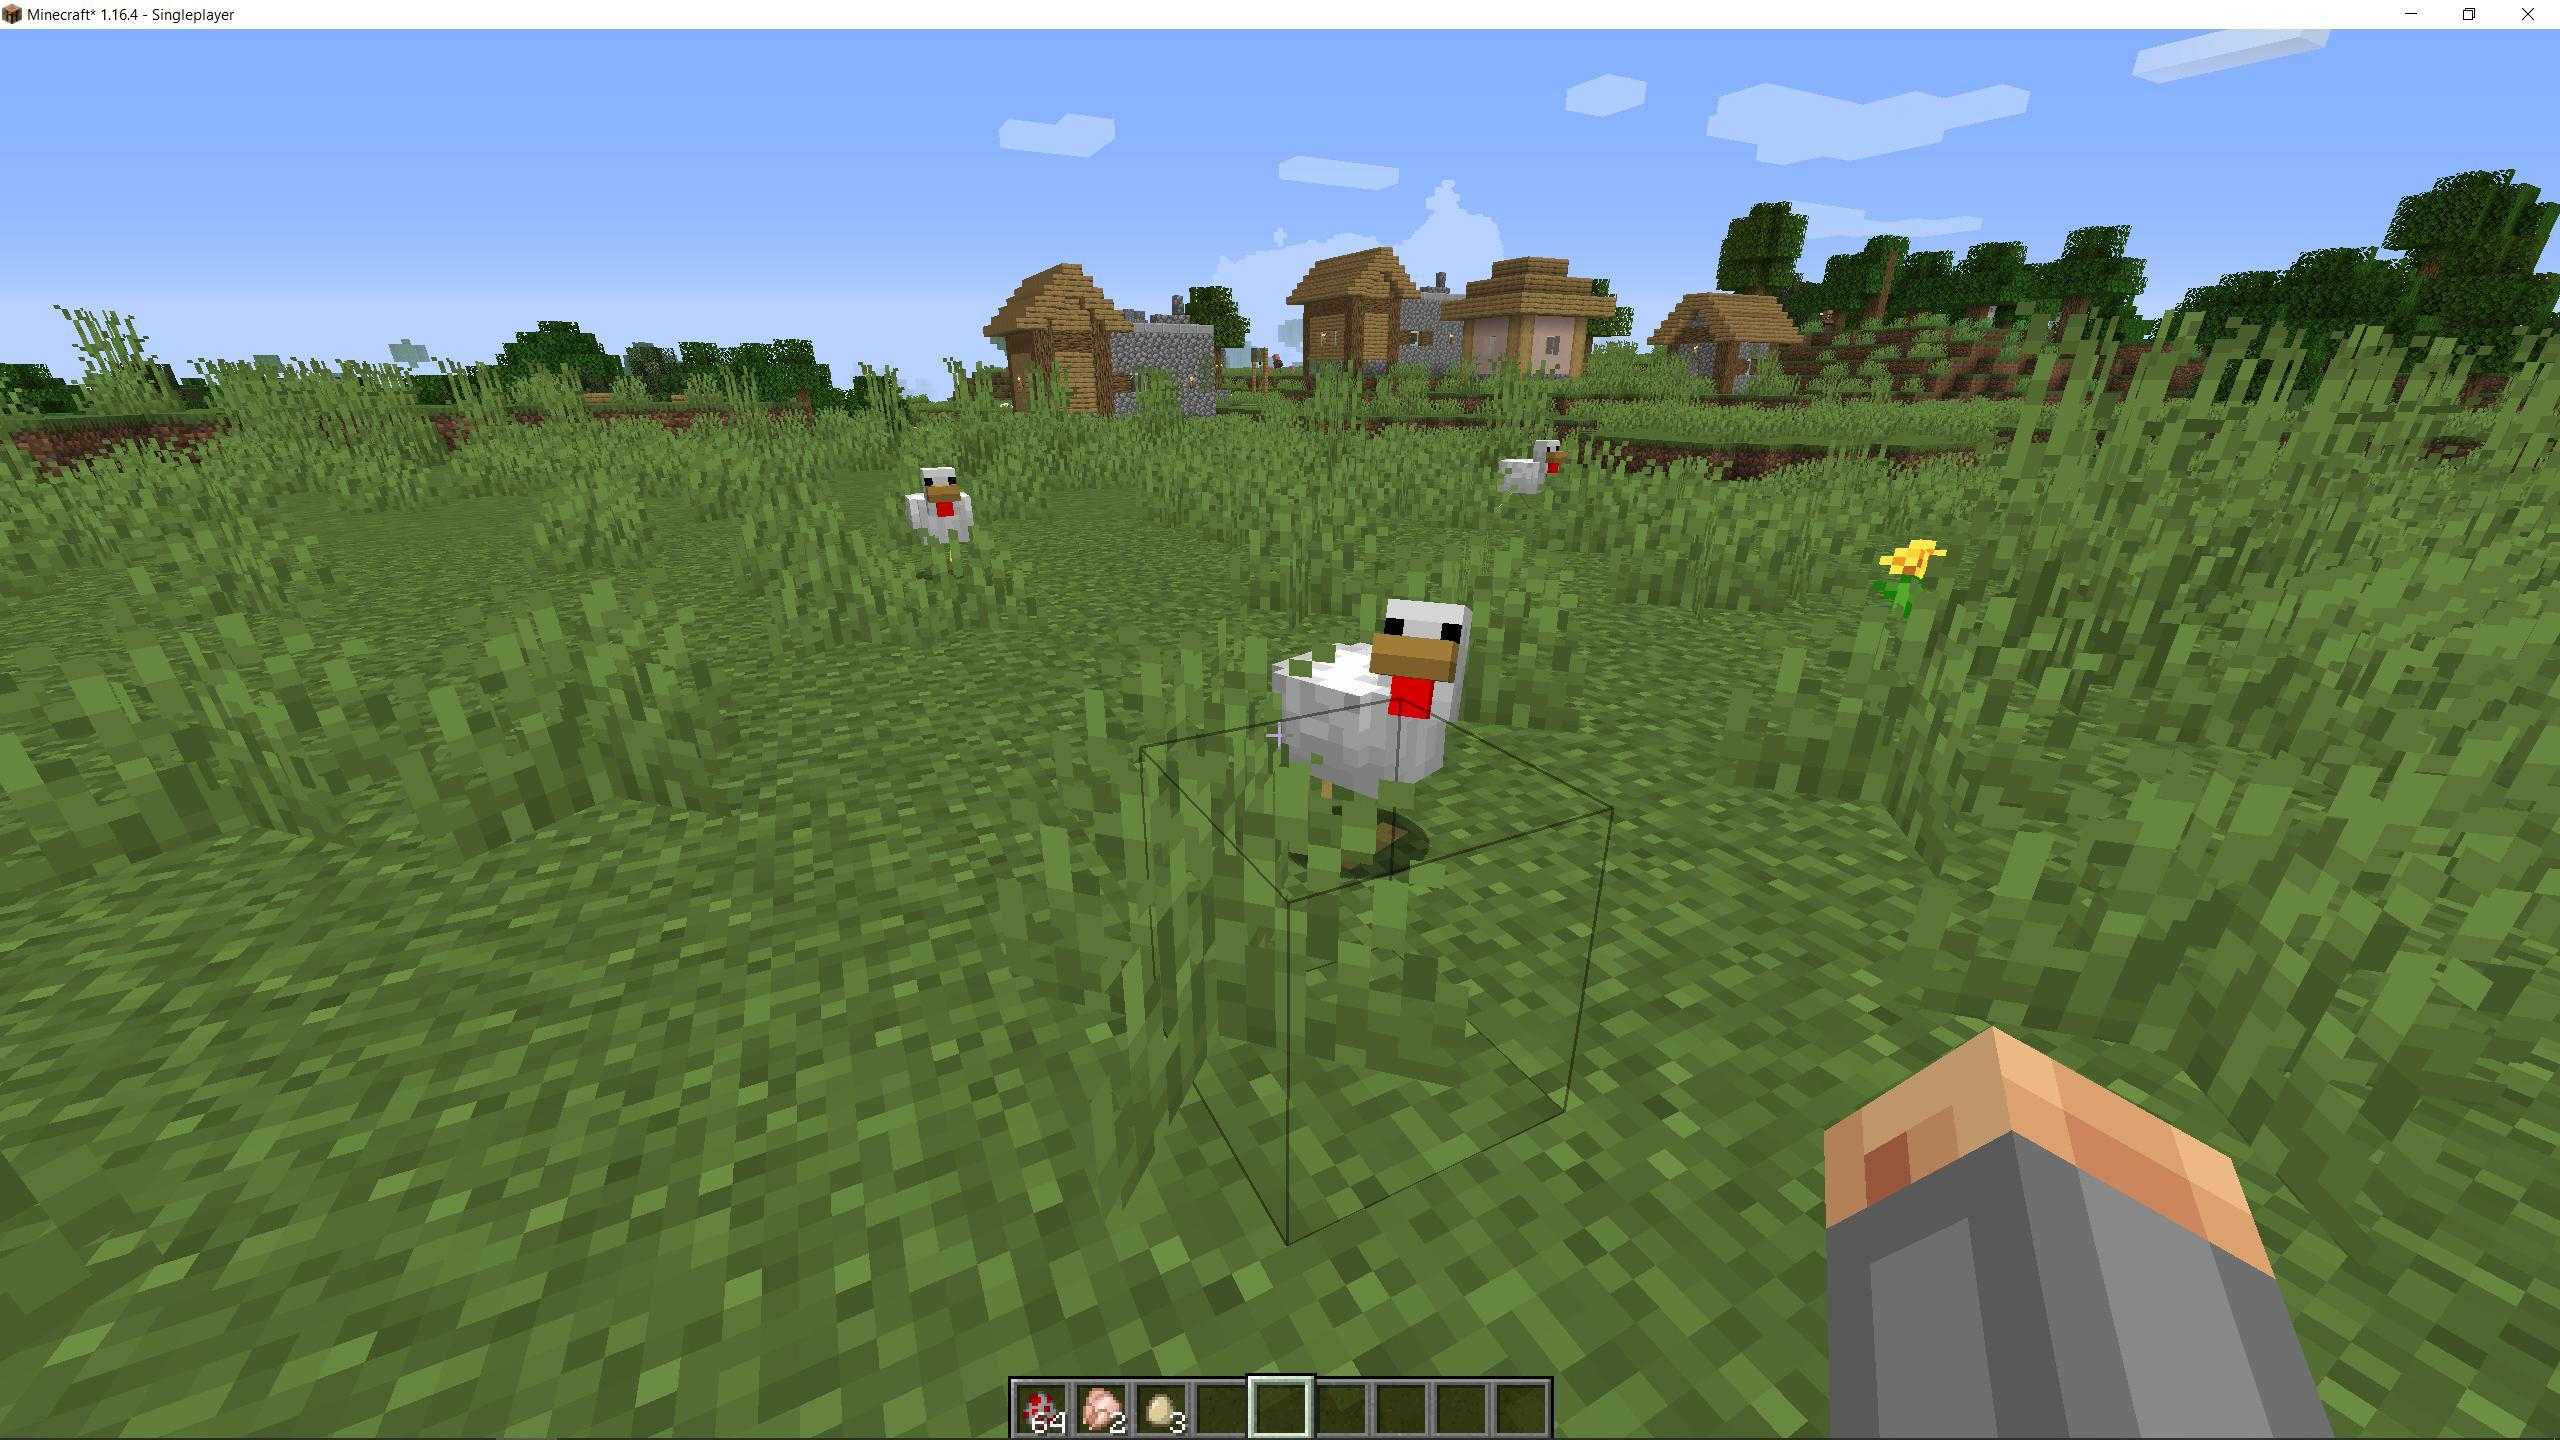chicken: (1264, 596, 1482, 881), (897, 455, 993, 578), (1472, 438, 1586, 529)
